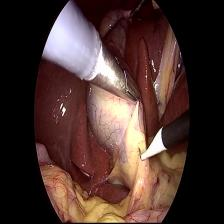Grasper: (118, 68, 147, 108)
Hook: (137, 129, 168, 164)
